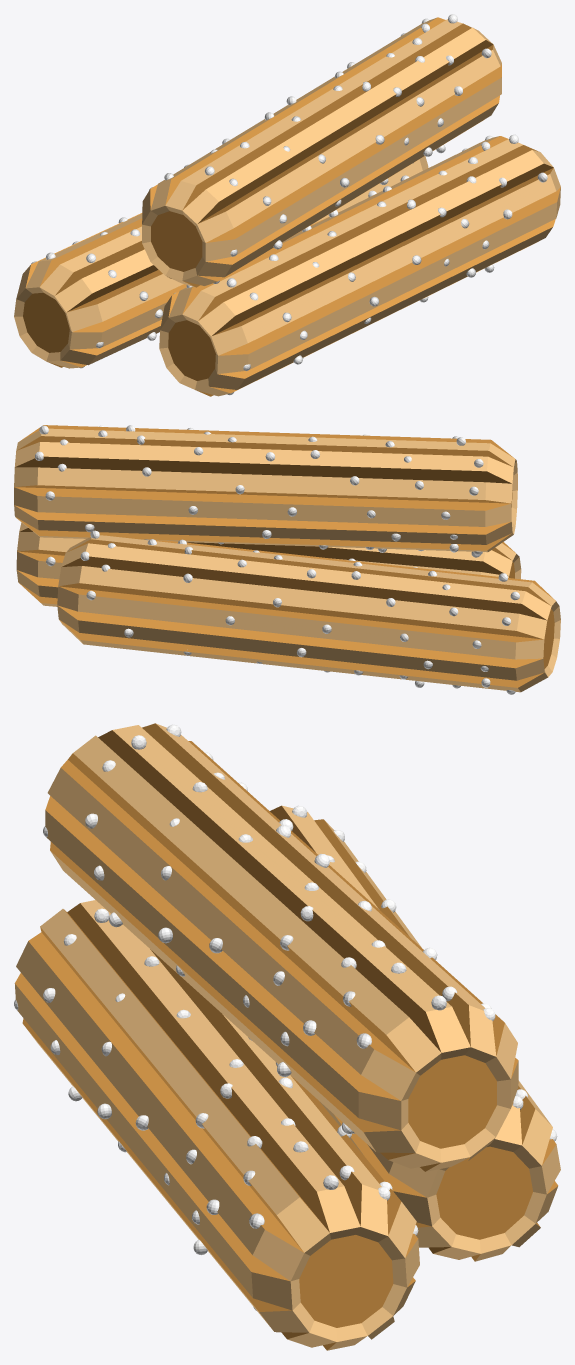
The model's file is Churros.glb.
The picture shows the model from 3 angles, top to bottom: view 1: azimuth 30°, elevation 25°; view 2: azimuth 150°, elevation 25°; view 3: azimuth 270°, elevation 25°; orthographic projection. The views are drawn at different scales.
Visible parts, largest first — view 1: Node; view 2: Node; view 3: Node.
Part boxes in pixels (x1,y1,x2,y2): Node: (14,14,560,396); Node: (14,425,560,694); Node: (14,723,560,1350).
Size of the model in its own units: 1.25 by 0.4929 by 0.6974.
